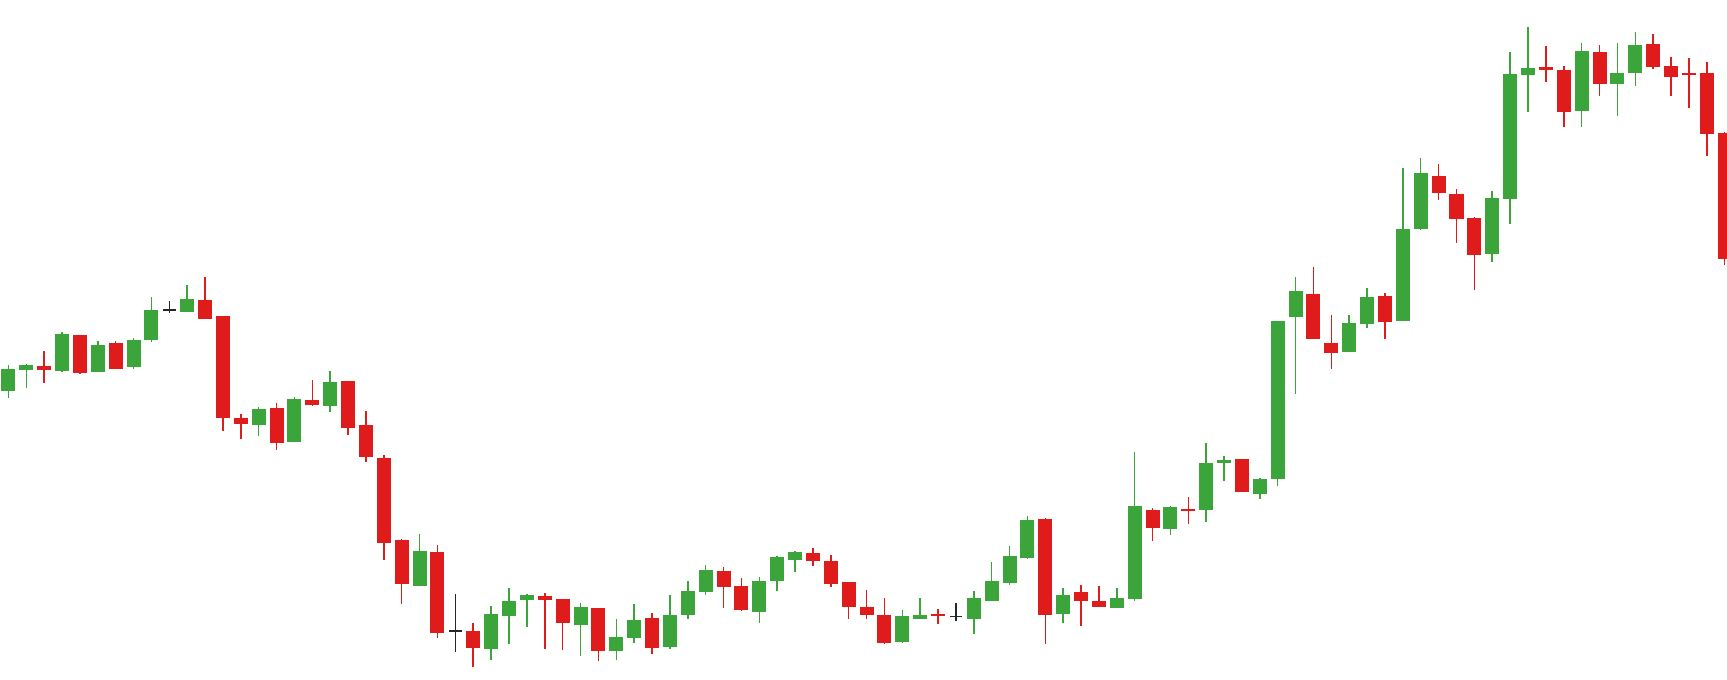buy: (964, 559, 1072, 652)
